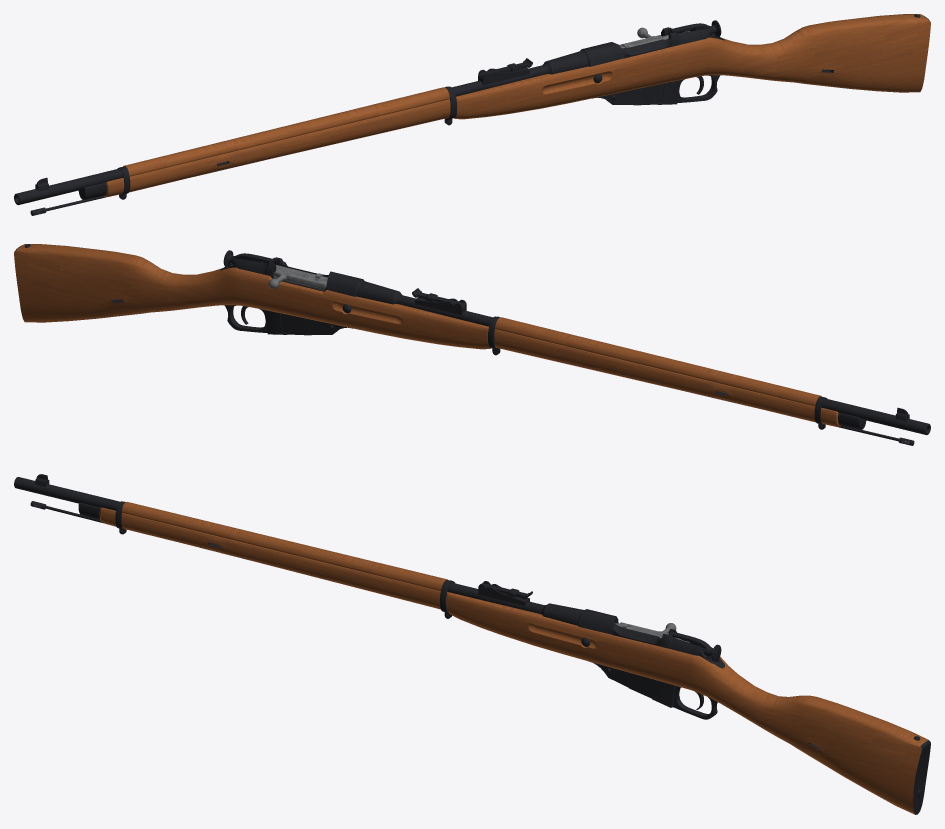
Rendered from mosin.glb.
The picture shows the model from 3 angles, top to bottom: view 1: azimuth 30°, elevation 25°; view 2: azimuth 150°, elevation 25°; view 3: azimuth 330°, elevation 25°; orthographic projection.
Parts seen in each view (by area): view 1: mosin; view 2: mosin; view 3: mosin.
Part boxes in pixels (bbox=[...]): mosin: bbox=[14, 14, 930, 215]; mosin: bbox=[14, 244, 930, 445]; mosin: bbox=[14, 474, 930, 814].
Bounding box in the file's own units: 1.29 × 0.1712 × 0.062.
Materials: 3 (3 with a texture image).
